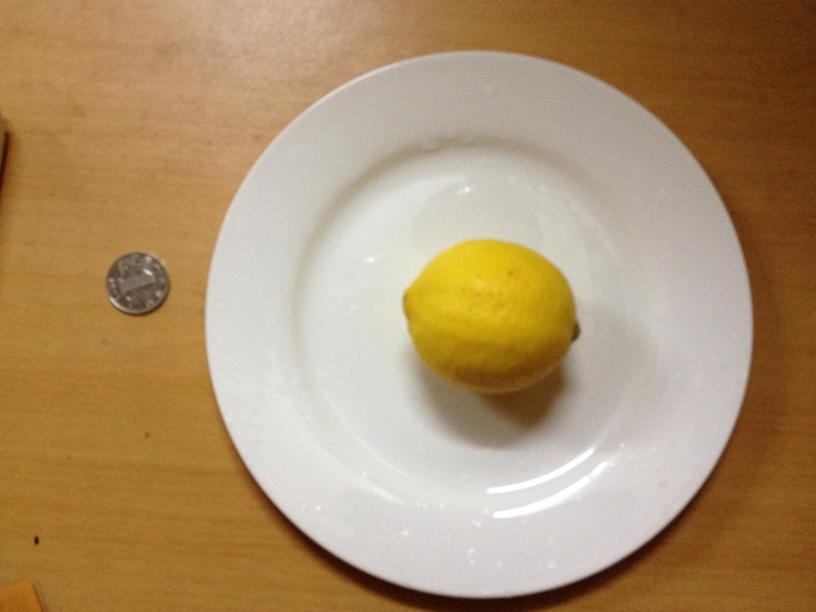coin: (105, 247, 170, 316)
lemon: (404, 235, 575, 393)
